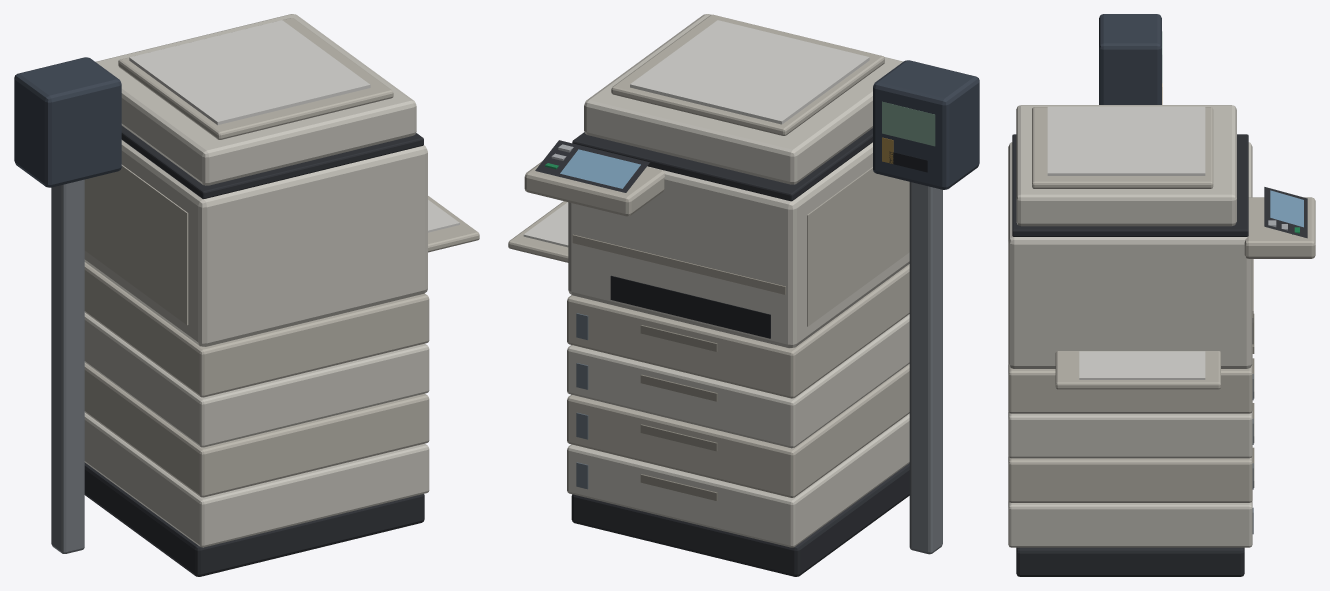
The model's file is library_copier.glb.
The picture shows the model from 3 angles, left to right: view 1: azimuth 30°, elevation 25°; view 2: azimuth 150°, elevation 25°; view 3: azimuth 270°, elevation 25°; orthographic projection. The views are drawn at different scales.
Parts seen in each view (by area): view 1: copier_vc; view 2: copier_vc; view 3: copier_vc.
Part boxes in pixels (box(x1,y1,x2,y2)): copier_vc: box(14, 14, 479, 576); copier_vc: box(508, 14, 979, 576); copier_vc: box(1008, 14, 1315, 576).
Size of the model in its own units: 1.07 by 1.18 by 0.78.
